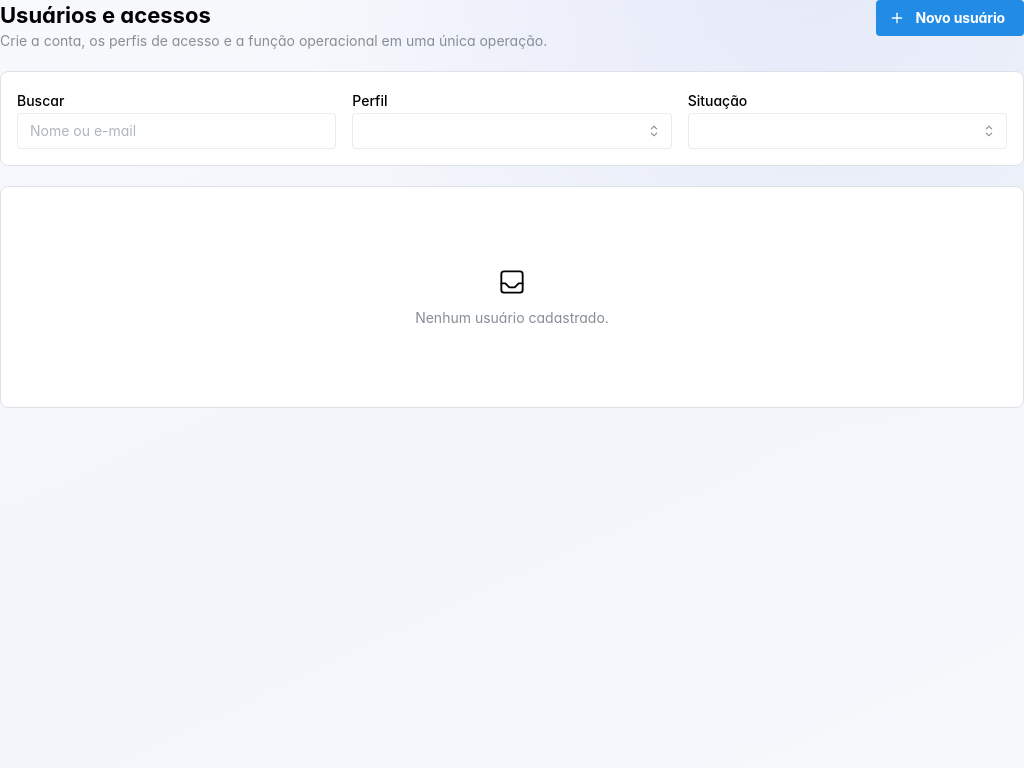
UsersPage › esconde o cadastro operacional para quem só usa o sistema
This screenshot has width=1024, height=768.
Click the button "Novo usuário".
click(950, 18)  # box left=876, top=0, right=1023, bottom=36
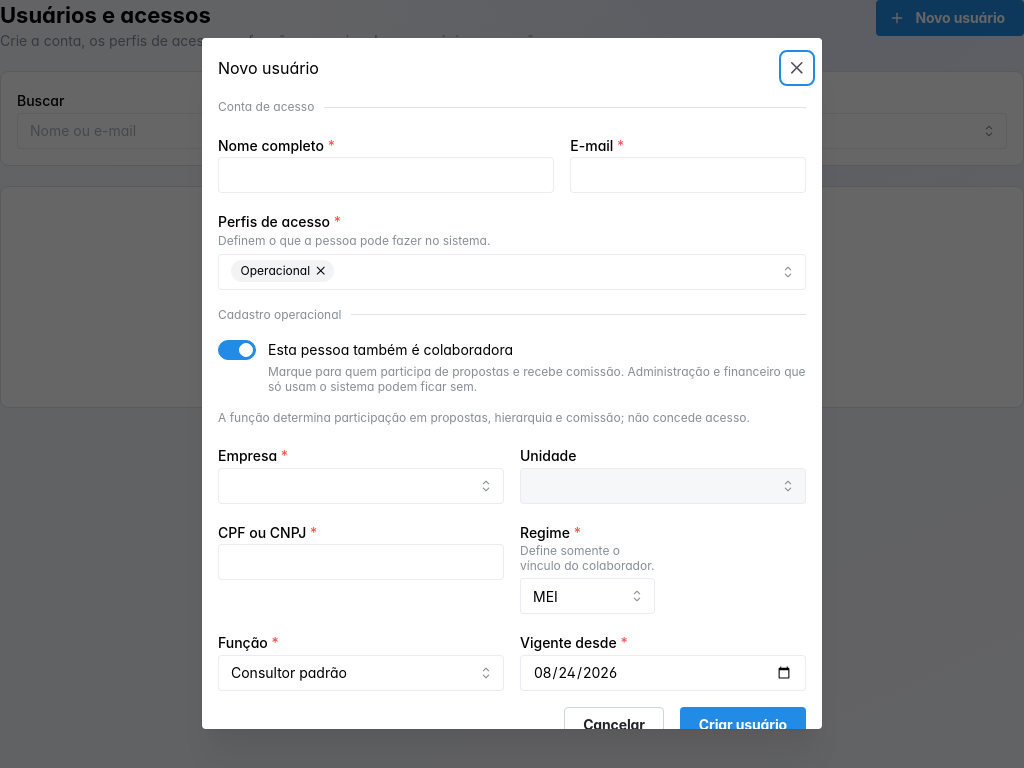
Click the switch labelled "também é colaboradora".
click(512, 368)  # box left=218, top=341, right=806, bottom=394
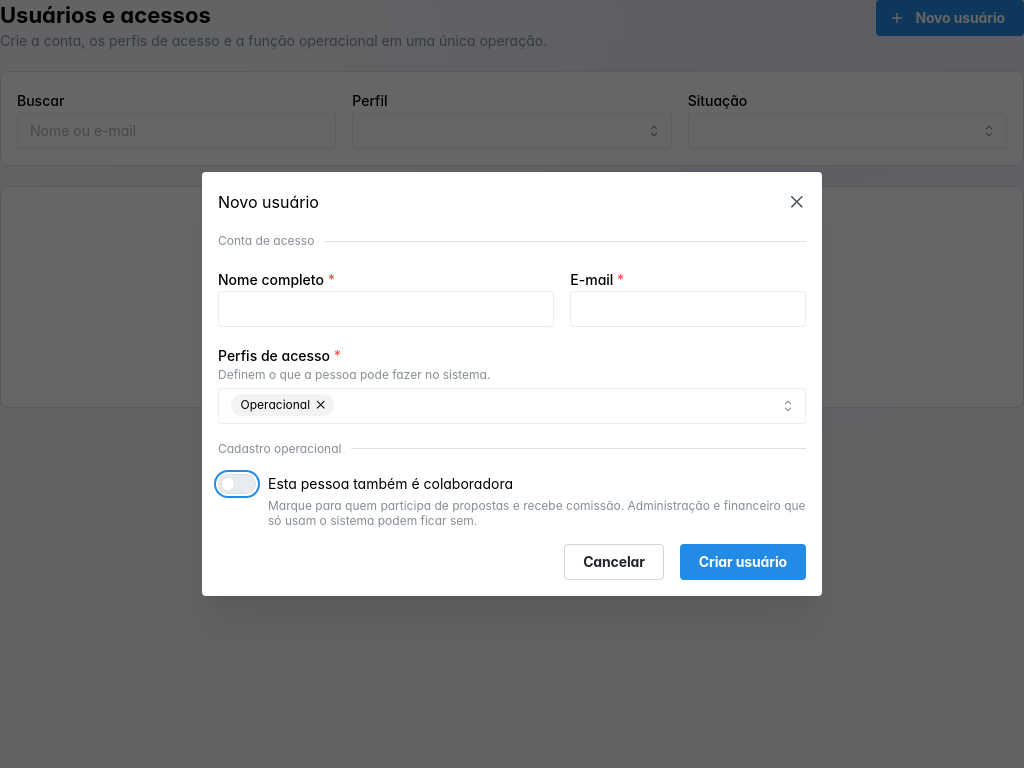
Now the label labelled "Perfis de acesso *" is shown, box left=218, top=345, right=341, bottom=367
Now the label labelled "CPF ou CNPJ" is gone
